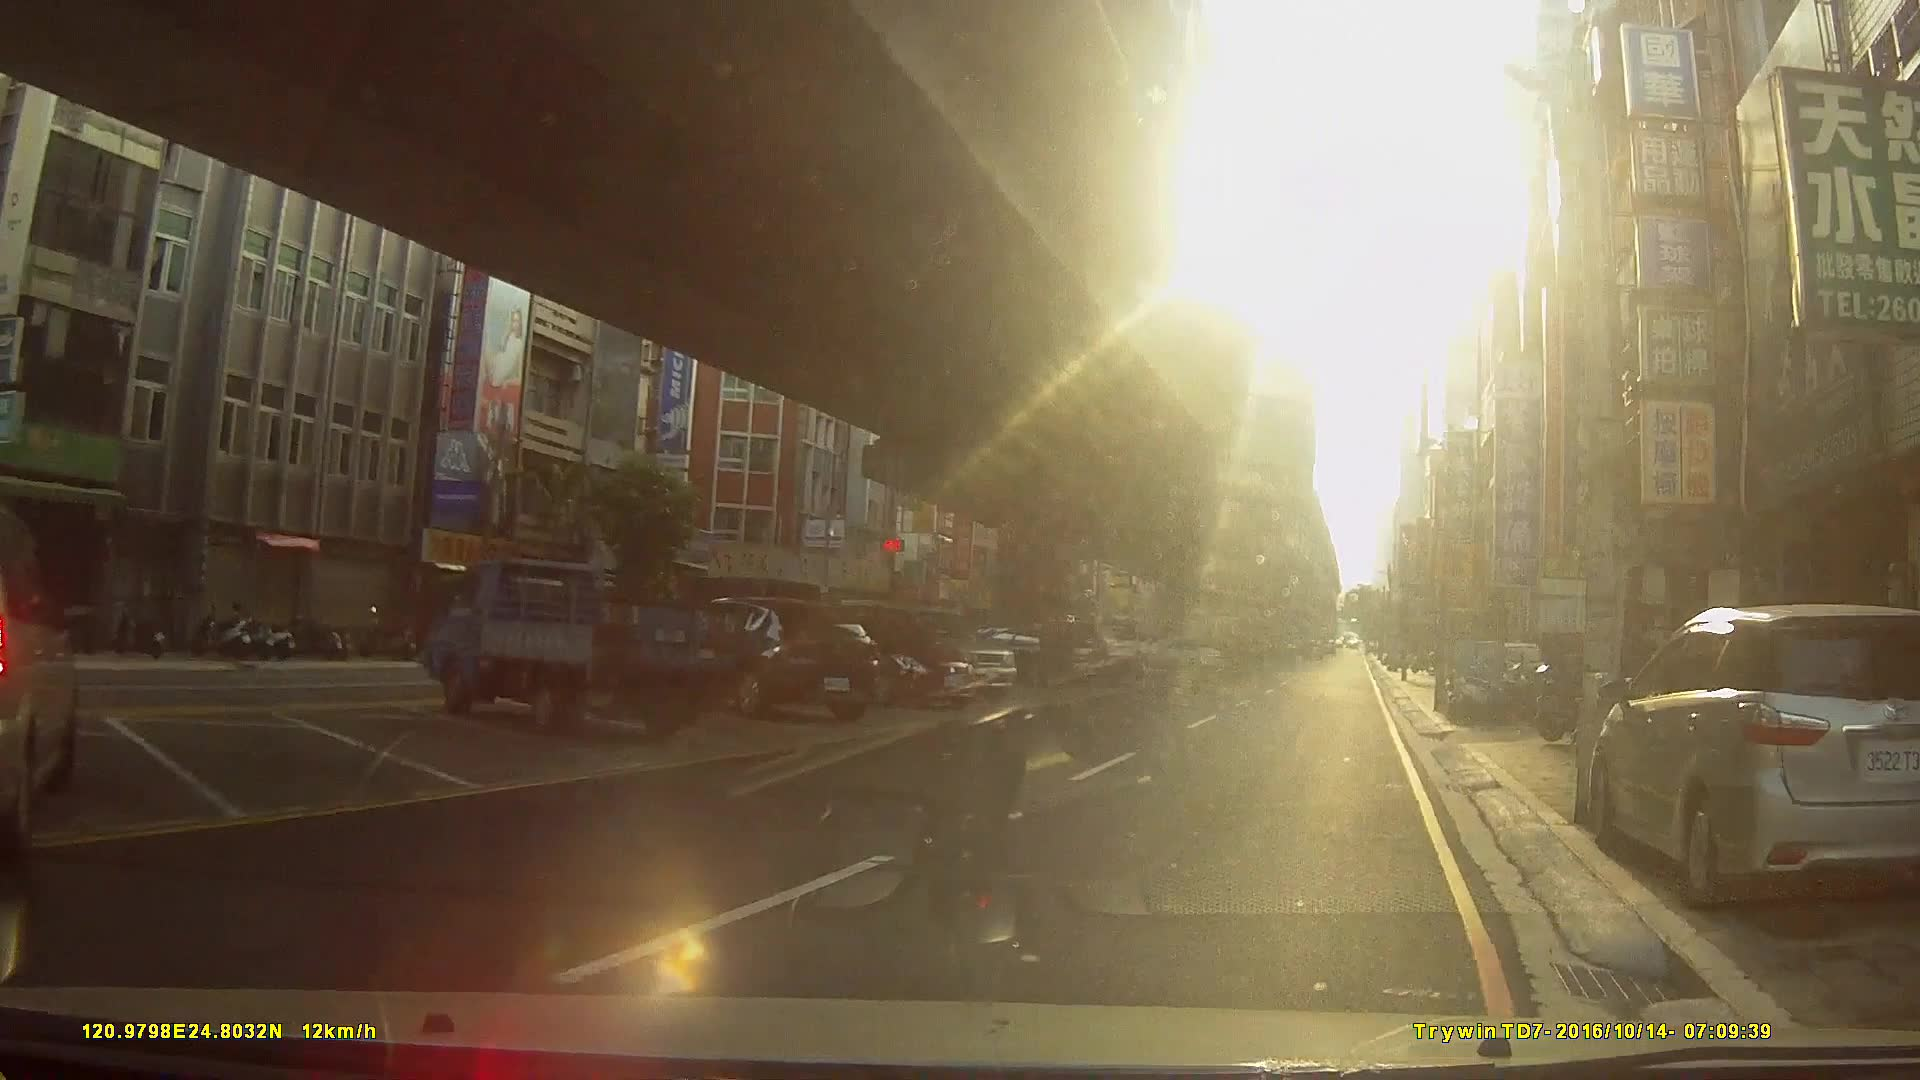vehicle: (1586, 600, 1920, 905), (417, 555, 742, 738), (674, 593, 880, 720), (799, 608, 972, 705), (944, 624, 1091, 684)
